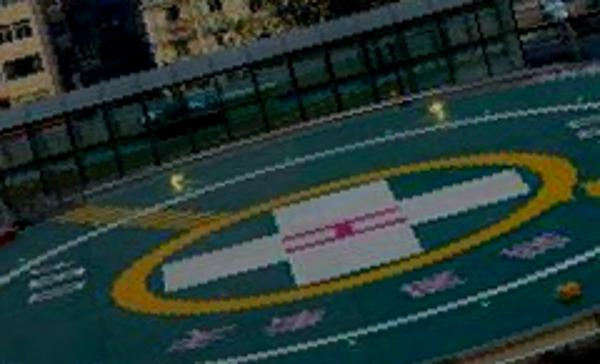Apron: (106, 148, 585, 319)
